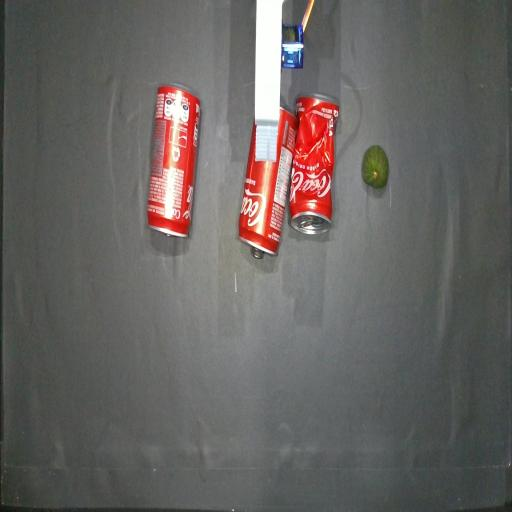higo: (362, 146, 389, 188)
lata: (238, 106, 297, 257), (147, 85, 200, 237)
lata_defectuoso: (289, 94, 339, 234)
